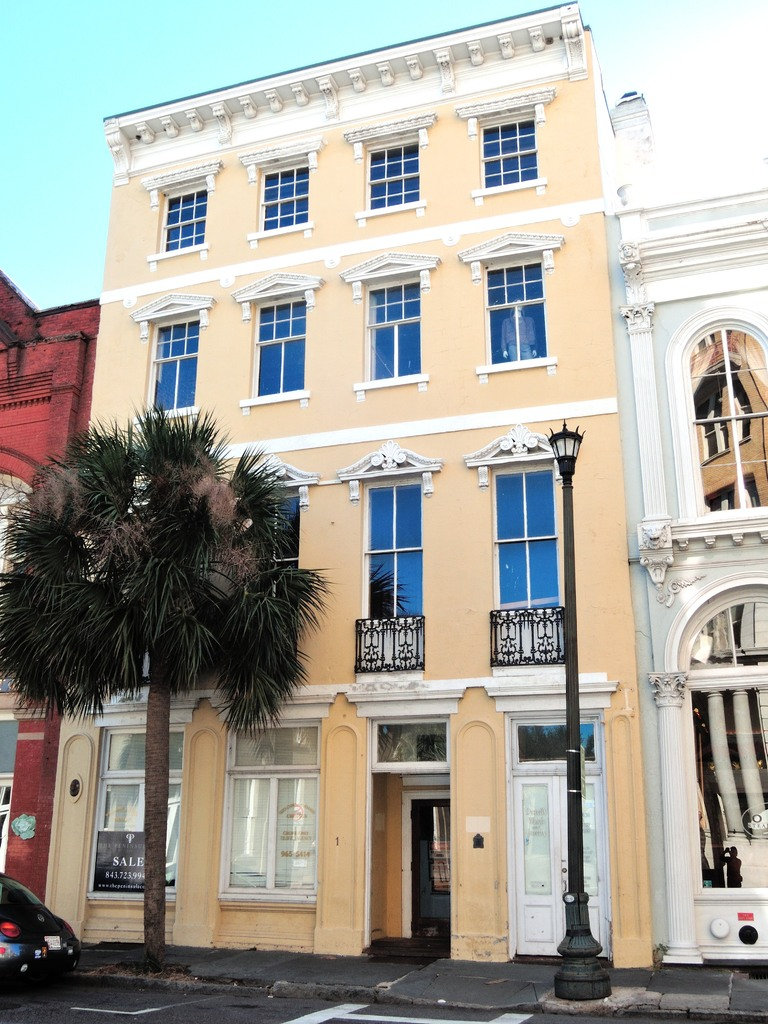Car: (2, 876, 88, 981)
